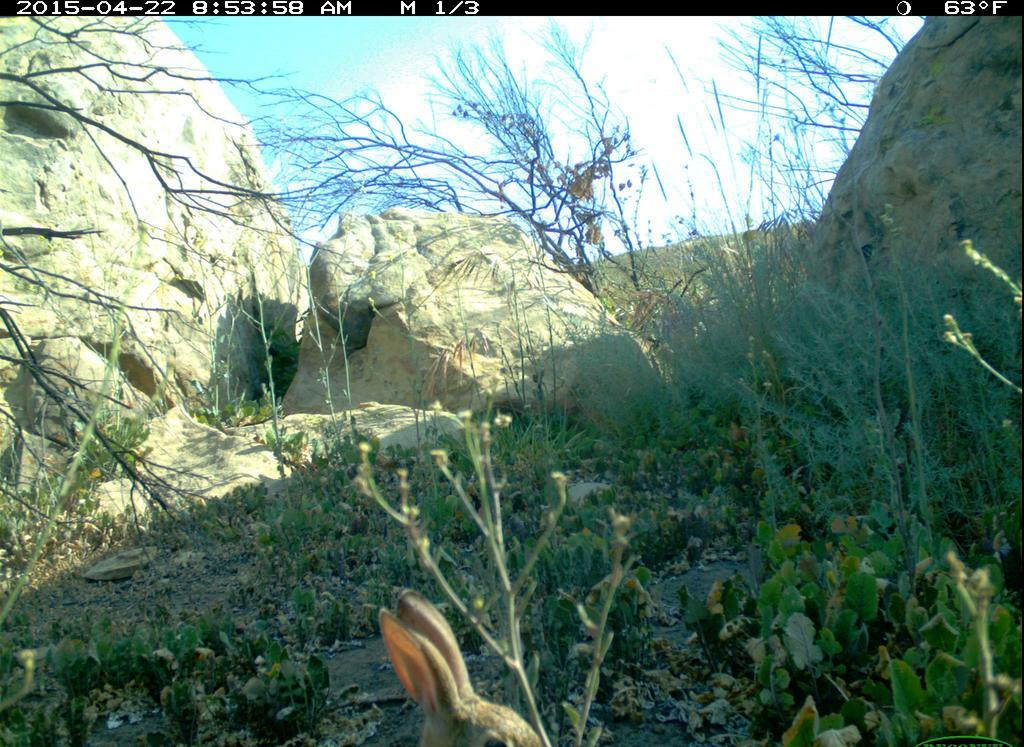rabbit: (374, 585, 561, 744)
